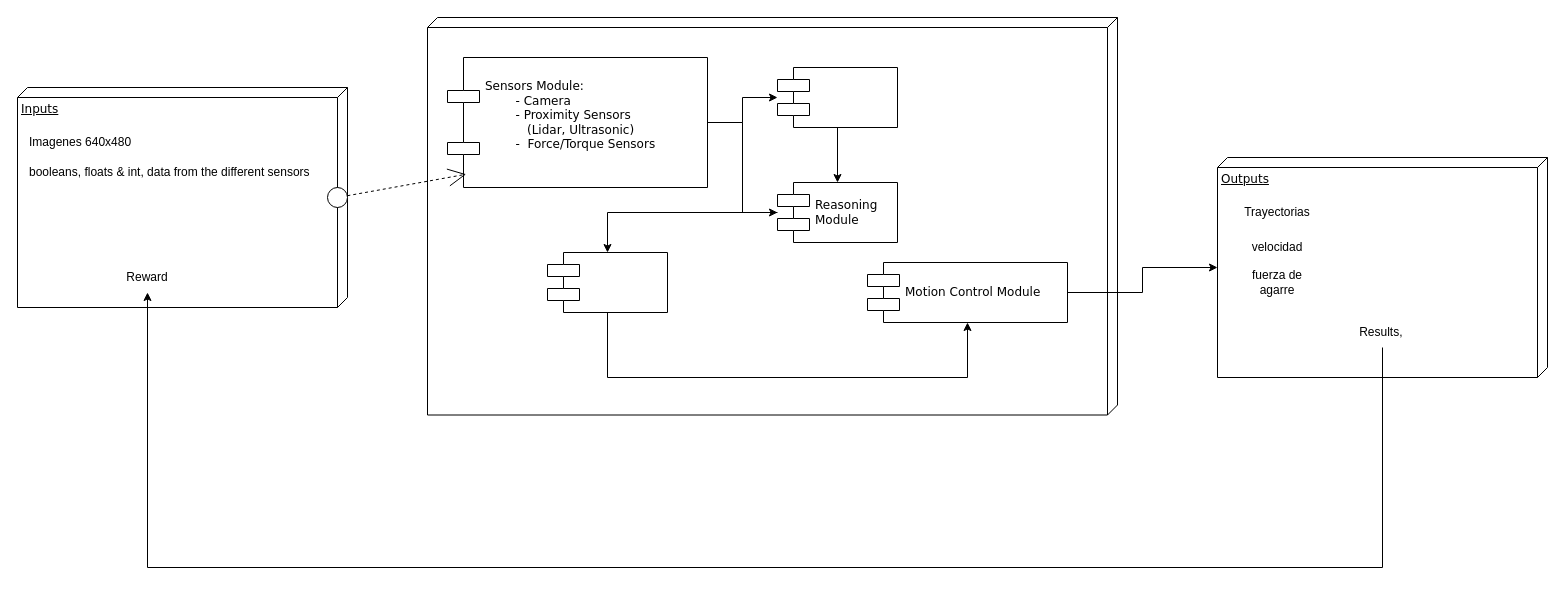
The diagram is 1565 pixels wide and 593 high, and some of its shapes have lost their labels. Each missing label, with the box of its shape:
Data Module: (546, 252, 668, 312)
Image Procesing Module: (776, 66, 898, 128)
Inference Module: (426, 16, 1118, 415)
